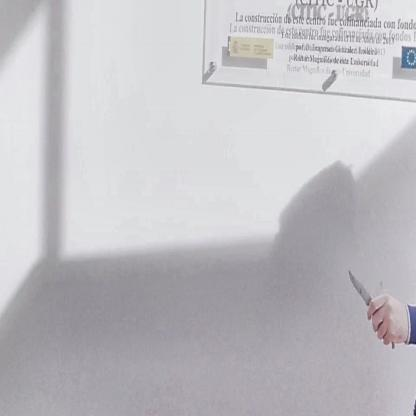knife: (345, 259, 397, 352)
